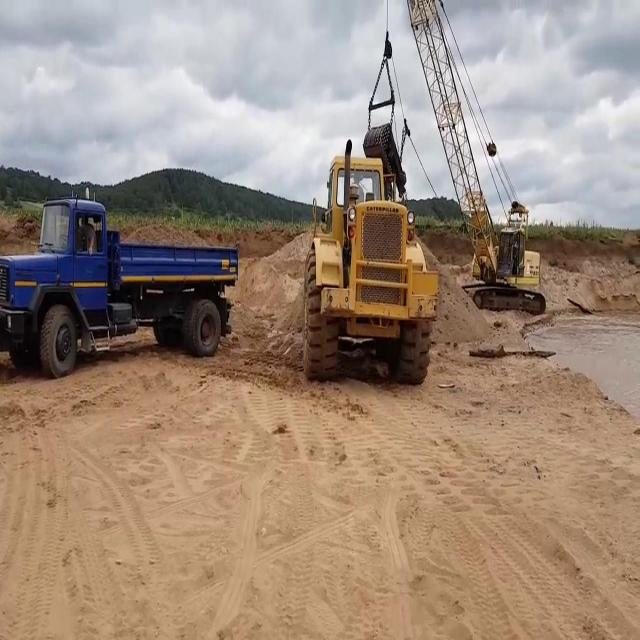Dump Truck: (0, 186, 241, 383)
Loader: (300, 131, 438, 385)
Mobile Crane: (363, 0, 550, 316)
